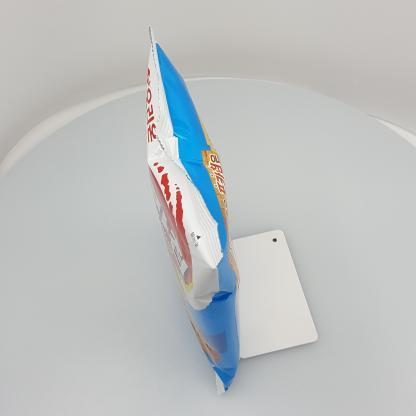Plastic Packaging: (105, 15, 283, 404)
